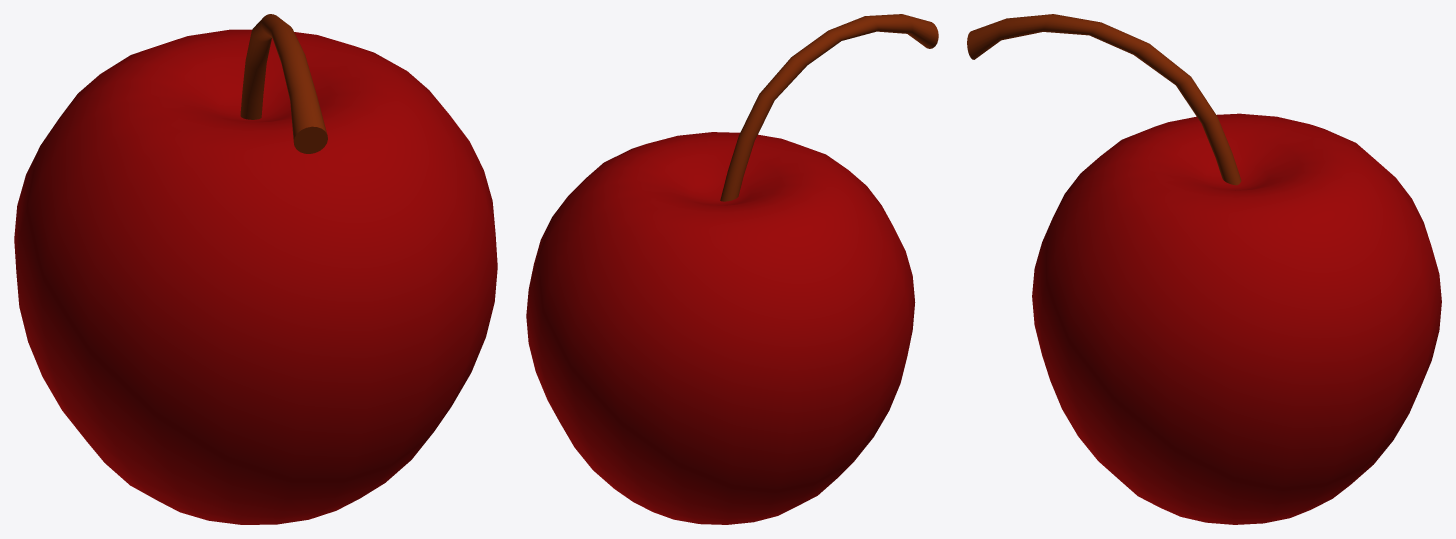
File: cherry_exp.fbx
3 renders of one model, left to right at view 1: azimuth 30°, elevation 25°; view 2: azimuth 150°, elevation 25°; view 3: azimuth 270°, elevation 25°, orthographic. The views are drawn at different scales.
Visible parts, largest first — view 1: pSphere4, pCylinder11; view 2: pSphere4, pCylinder11; view 3: pSphere4, pCylinder11.
Boxes of the visible parts, left/top/right/bottom form: pSphere4: left=14, top=29, right=497, bottom=524; pCylinder11: left=240, top=14, right=327, bottom=153; pSphere4: left=526, top=132, right=915, bottom=524; pCylinder11: left=720, top=14, right=938, bottom=201; pSphere4: left=1032, top=113, right=1441, bottom=524; pCylinder11: left=967, top=14, right=1241, bottom=185.
Bounding box in the file's own units: 0.2586 × 0.3237 × 0.303.
